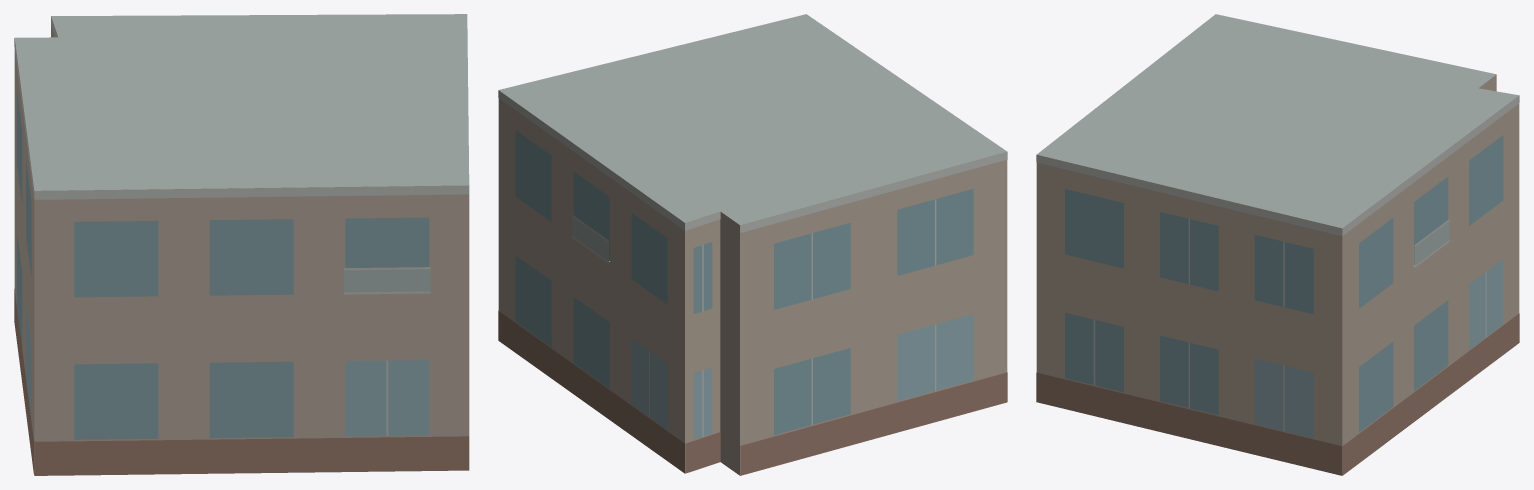
The model's file is survey-upis-32663032.glb.
The picture shows the model from 3 angles, left to right: view 1: azimuth 30°, elevation 25°; view 2: azimuth 150°, elevation 25°; view 3: azimuth 270°, elevation 25°; orthographic projection. The views are drawn at different scales.
Visible parts, largest first — view 1: survey-upis-32663032.tmp; view 2: survey-upis-32663032.tmp; view 3: survey-upis-32663032.tmp.
Boxes of the visible parts, left/top/right/bottom form: survey-upis-32663032.tmp: left=14, top=14, right=469, bottom=475; survey-upis-32663032.tmp: left=498, top=14, right=1007, bottom=475; survey-upis-32663032.tmp: left=1036, top=14, right=1519, bottom=475.
Bounding box in the file's own units: 14.41 × 7.75 × 13.72.
